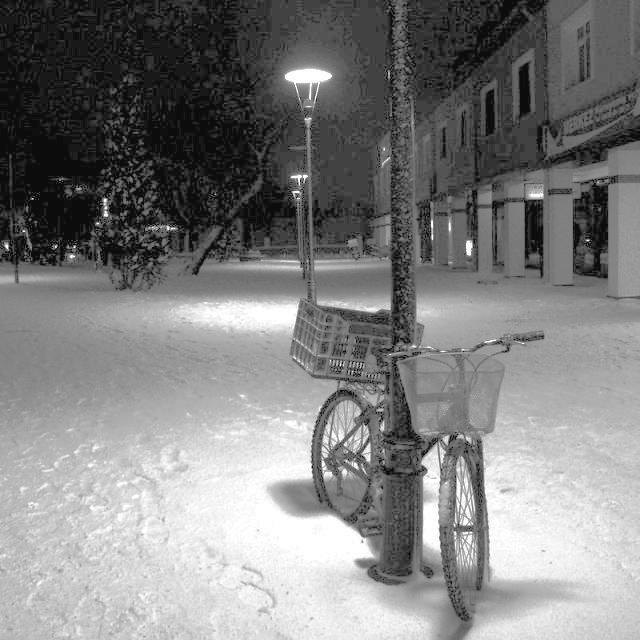Bicycle: (292, 287, 546, 629)
Light: (284, 62, 334, 90)
